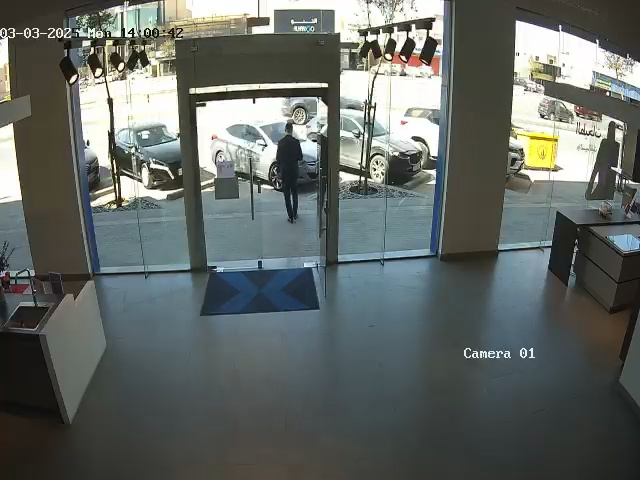employee: (275, 122, 304, 223)
